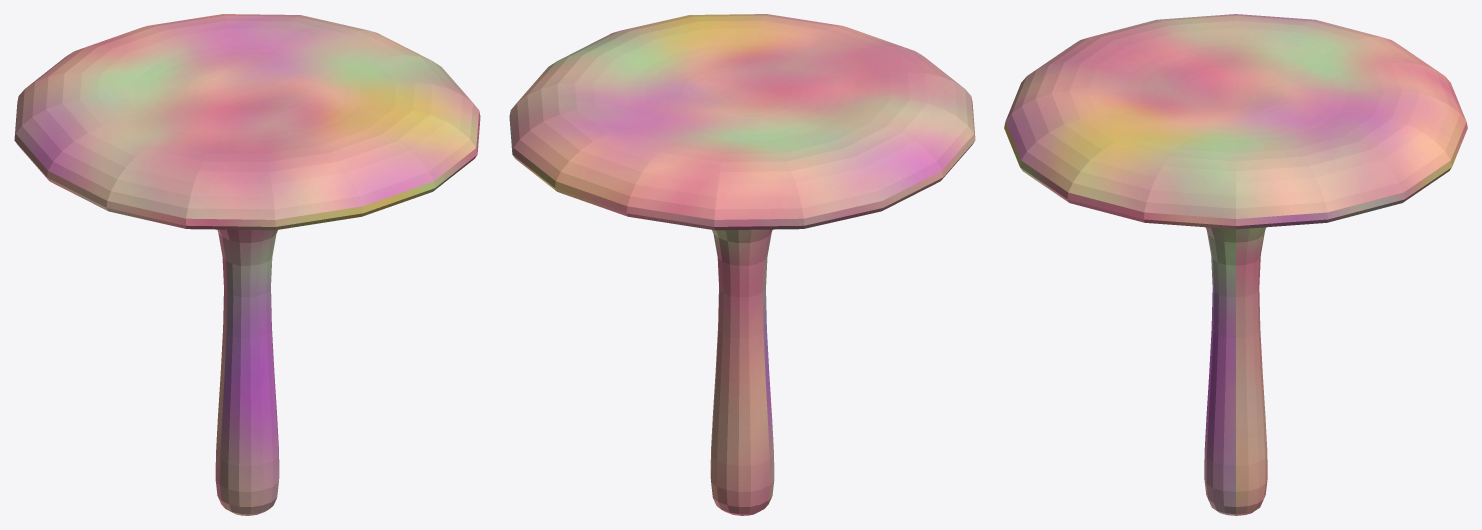
File: zeta.glb
3 views of the same model, side by side, from view 1: azimuth 30°, elevation 25°; view 2: azimuth 150°, elevation 25°; view 3: azimuth 270°, elevation 25° (orthographic).
Visible parts, largest first — view 1: hongo tipo zeta; view 2: hongo tipo zeta; view 3: hongo tipo zeta.
Part boxes in pixels (x1=…): hongo tipo zeta: x1=14, y1=14, x2=480, y2=515; hongo tipo zeta: x1=509, y1=14, x2=975, y2=515; hongo tipo zeta: x1=1004, y1=14, x2=1467, y2=515.
Size of what is drawn, in the model's own units: 5 by 5 by 5.
1 material, 1 textured.
